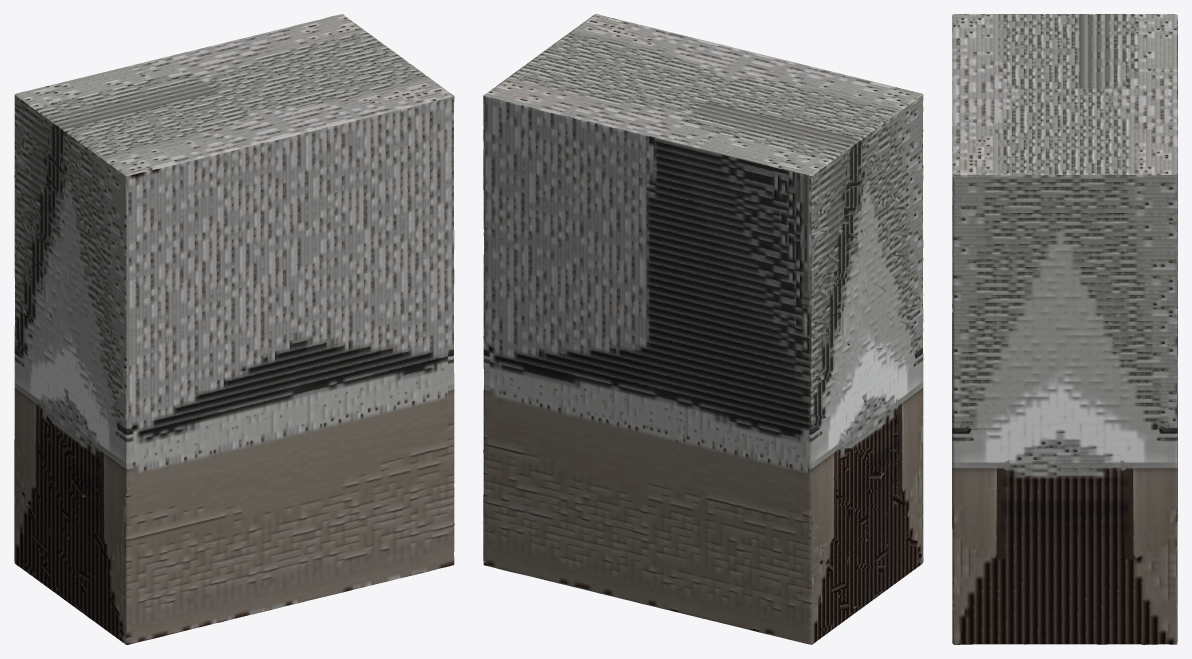
The model's file is living-02-dresser.glb.
The picture shows the model from 3 angles, left to right: view 1: azimuth 30°, elevation 25°; view 2: azimuth 150°, elevation 25°; view 3: azimuth 270°, elevation 25°; orthographic projection.
Parts seen in each view (by area): view 1: geometry_0; view 2: geometry_0; view 3: geometry_0.
Part boxes in pixels (x1,y1,x2,y2): geometry_0: [14, 14, 454, 644]; geometry_0: [483, 14, 923, 644]; geometry_0: [952, 14, 1177, 644].
Bounding box in the file's own units: 1.45 × 1.97 × 0.8565.
Materials: 1 (1 with a texture image).
